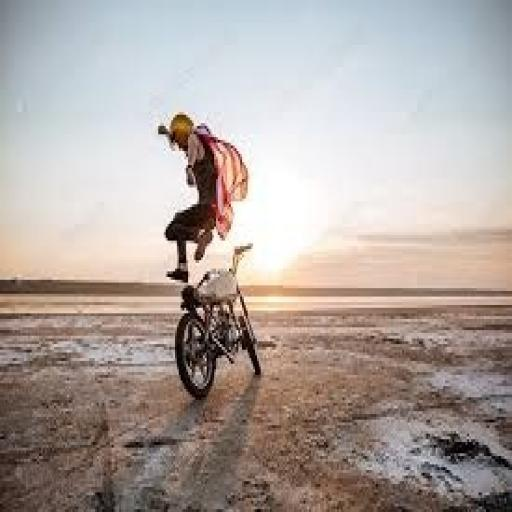cycling: (154, 109, 252, 285)
